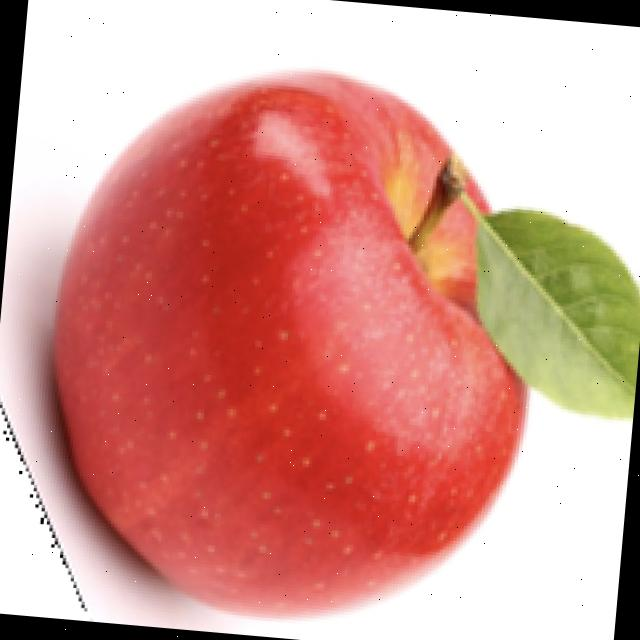apple: (0, 62, 640, 625)
